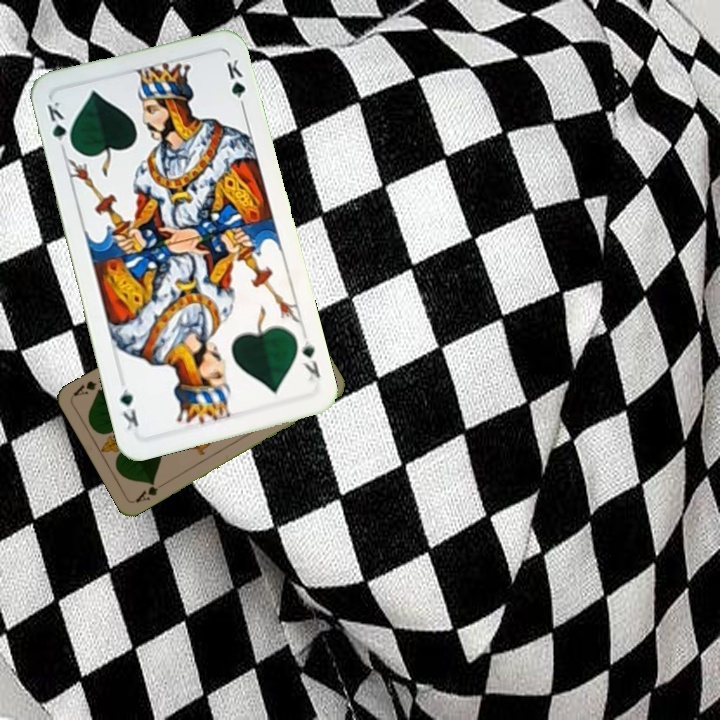GA: (131, 478, 167, 505)
GK: (43, 97, 76, 155), (298, 335, 323, 384)
